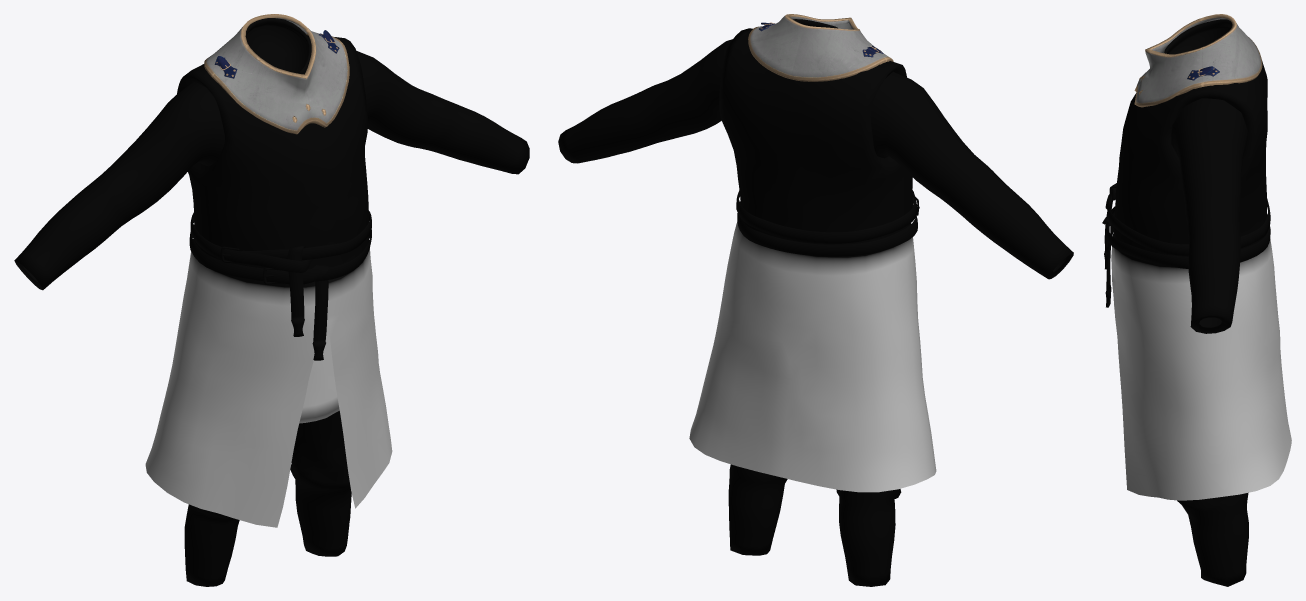
The model's file is swan_knight_armor_tabard1_t2.fbx.
The picture shows the model from 3 angles, left to right: view 1: azimuth 30°, elevation 25°; view 2: azimuth 150°, elevation 25°; view 3: azimuth 270°, elevation 25°; orthographic projection. The views are drawn at different scales.
Visible parts, largest first — view 1: swan_knight_armor_tabard1_t2.0, swan_knight_armor_tabard1_t2.1; view 2: swan_knight_armor_tabard1_t2.0, swan_knight_armor_tabard1_t2.1; view 3: swan_knight_armor_tabard1_t2.0, swan_knight_armor_tabard1_t2.1.
Part boxes in pixels (<box>): swan_knight_armor_tabard1_t2.0: <box>14,18,529,586</box>; swan_knight_armor_tabard1_t2.1: <box>204,14,349,134</box>; swan_knight_armor_tabard1_t2.0: <box>558,19,1073,586</box>; swan_knight_armor_tabard1_t2.1: <box>748,14,893,81</box>; swan_knight_armor_tabard1_t2.0: <box>1102,19,1291,586</box>; swan_knight_armor_tabard1_t2.1: <box>1134,14,1262,107</box>.
Size of the model in its own units: 1.34 by 0.4478 by 1.38.
